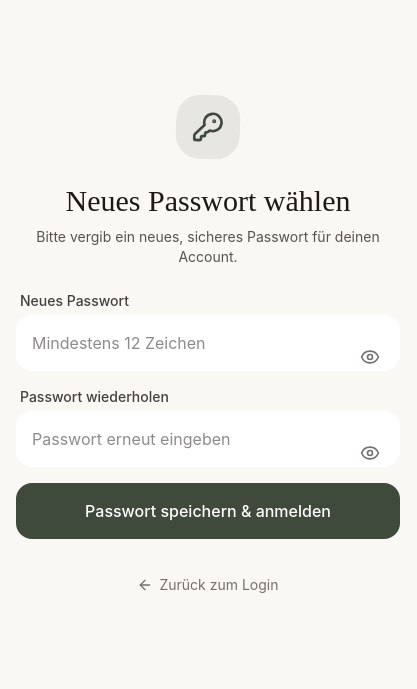
ForgotPasswordForm › displays error when password confirmation does not match
Type "SicheresPasswort2026!" into the password field labelled "Neues Passwort" at (208, 343), box [16,315,400,371]
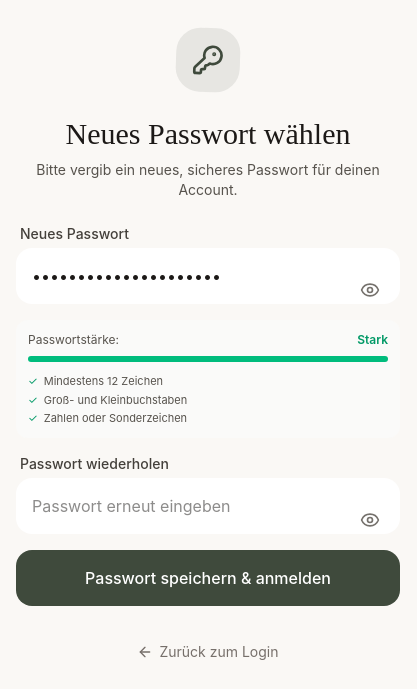
Type "AnderesPasswort2026!" into the password field labelled "Passwort wiederholen" at (208, 506), box [16,478,400,534]
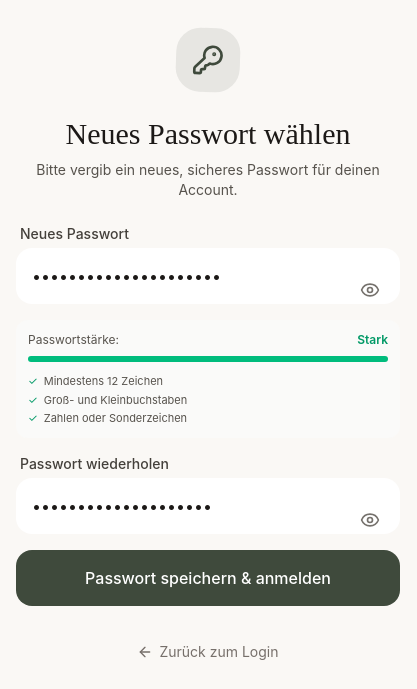
Click the button "Passwort speichern & anmelden" at (208, 578), box [16,550,400,606]
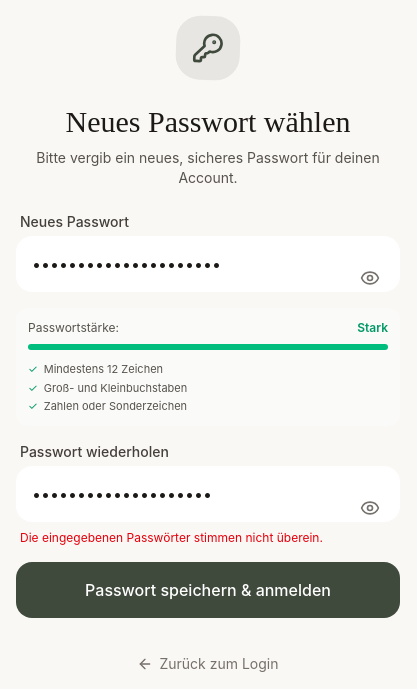
Expected: the text "Die eingegebenen Passwörter stimmen nicht überein." is shown, [20,530,323,545]
